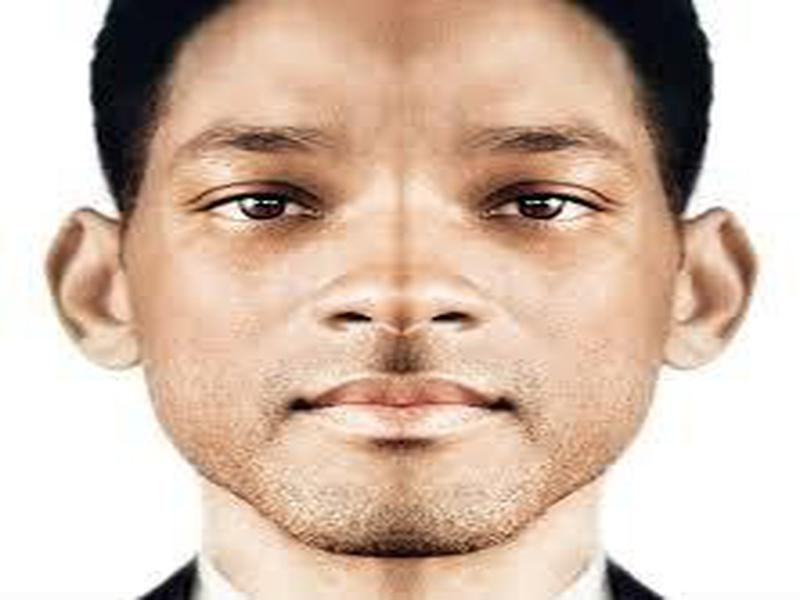without_mask: (131, 18, 685, 557)
